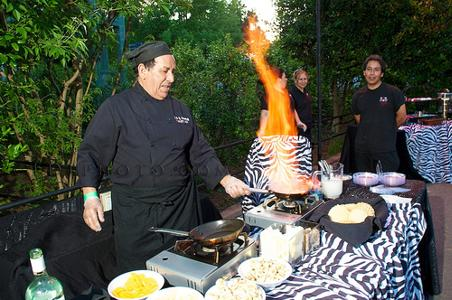person: (77, 42, 249, 275)
